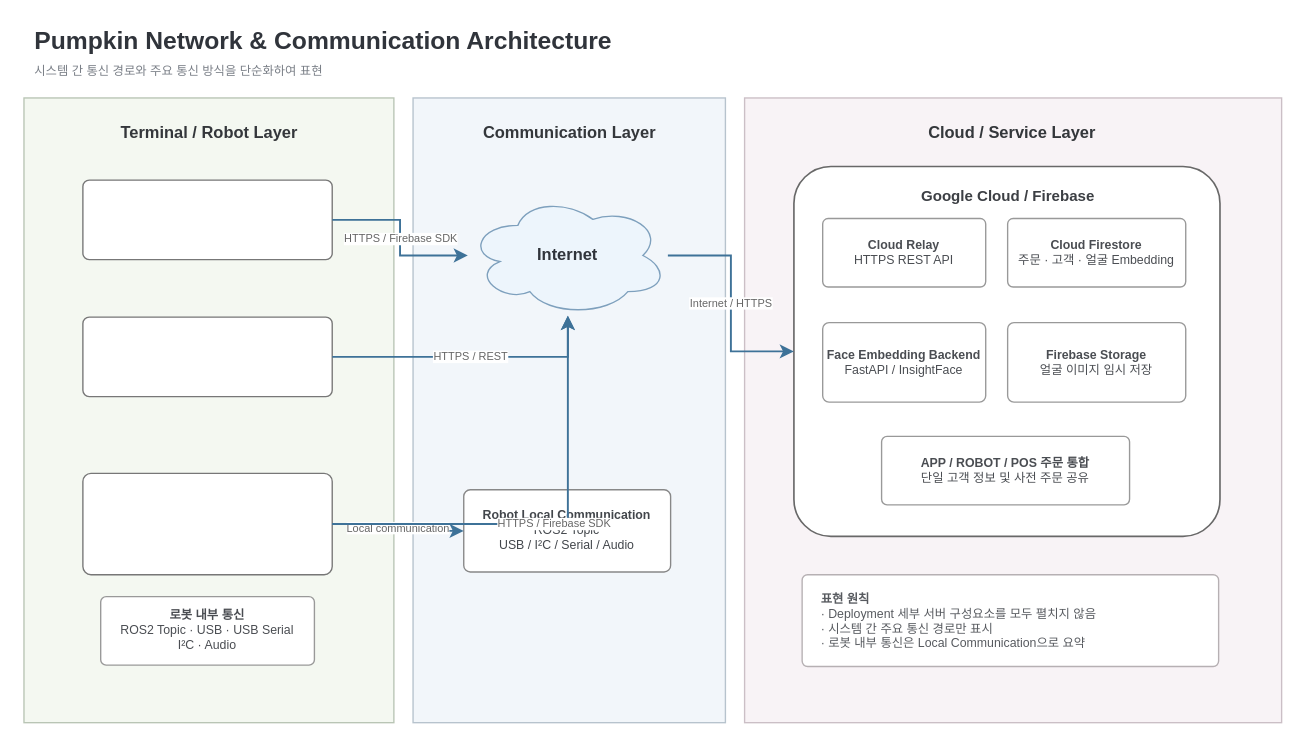
This 1306x747 diagram has some shape labels left out. Here are the shapes that lost their labels. From the top down, the centre of each, then its label:
(207,219): Customer App 사전 주문 · 고객 등록
(207,356): POS System 주문 조회 · 상태 관리
(207,523): Pumpkin Robot / Jetson 현장 음성 · 영상 입력 · 로봇 제어
